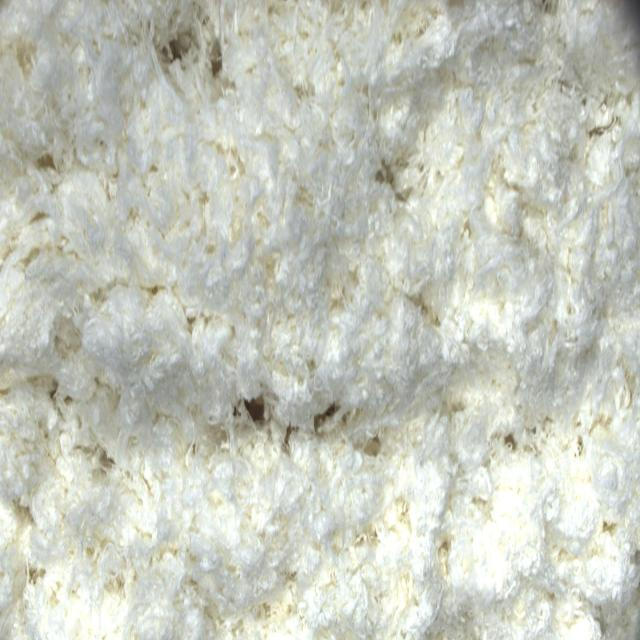dust: (242, 395, 284, 435)
